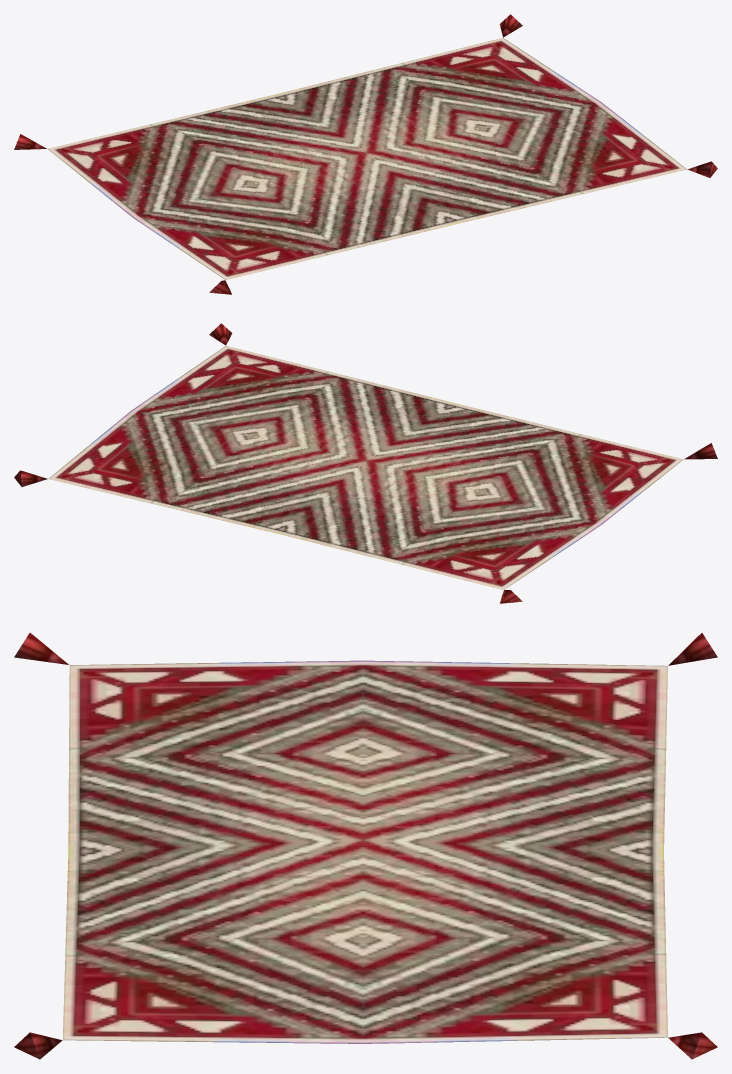
3 views of the same model, one above another, from view 1: azimuth 30°, elevation 25°; view 2: azimuth 150°, elevation 25°; view 3: azimuth 270°, elevation 25° (orthographic). The views are drawn at different scales.
Bounding box in the file's own units: 2.91 × 0.0653 × 2.09.
1 material, 1 textured.
